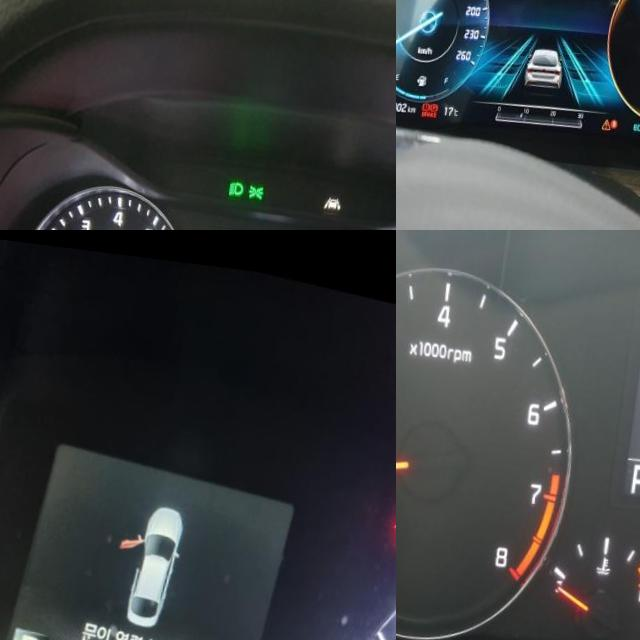Central Warning lamp: (612, 107, 623, 120)
LaneCenteringOff: (328, 184, 347, 200)
Low beam: (234, 172, 250, 190)
SideLamp: (253, 174, 271, 193)
